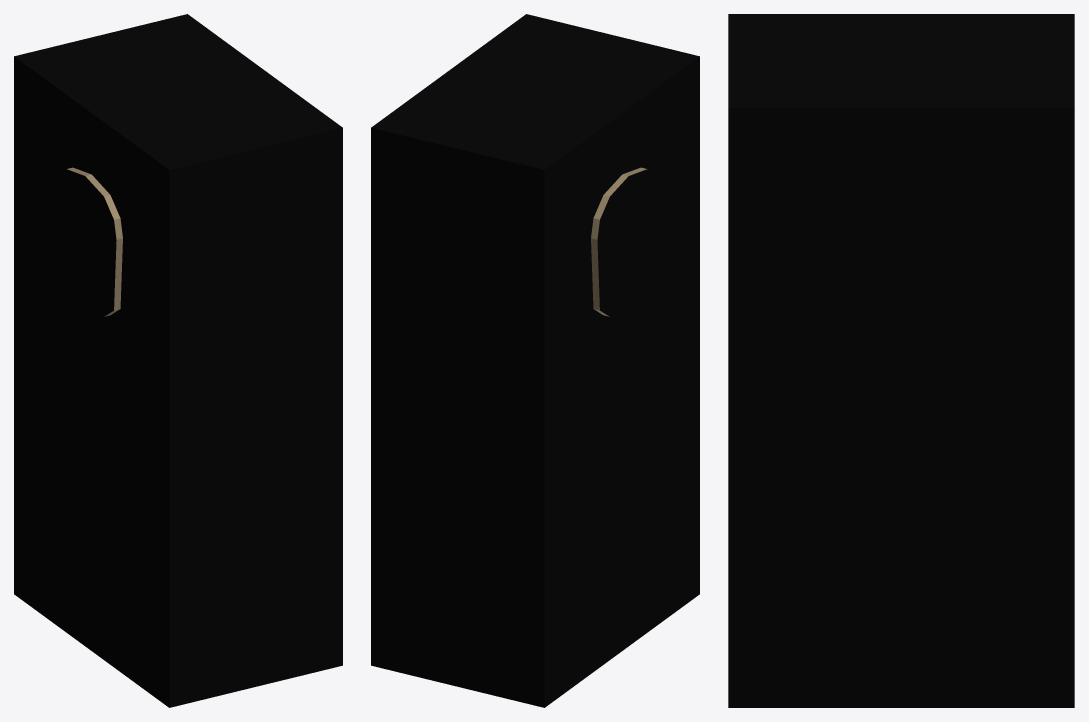
The model's file is mounted-xeric-s-talisman.gltf.
3 views of the same model, side by side, from view 1: azimuth 30°, elevation 25°; view 2: azimuth 150°, elevation 25°; view 3: azimuth 270°, elevation 25° (orthographic). The views are drawn at different scales.
Bounding box in the file's own units: 83 × 237 × 124.
2 materials, 2 textured.
